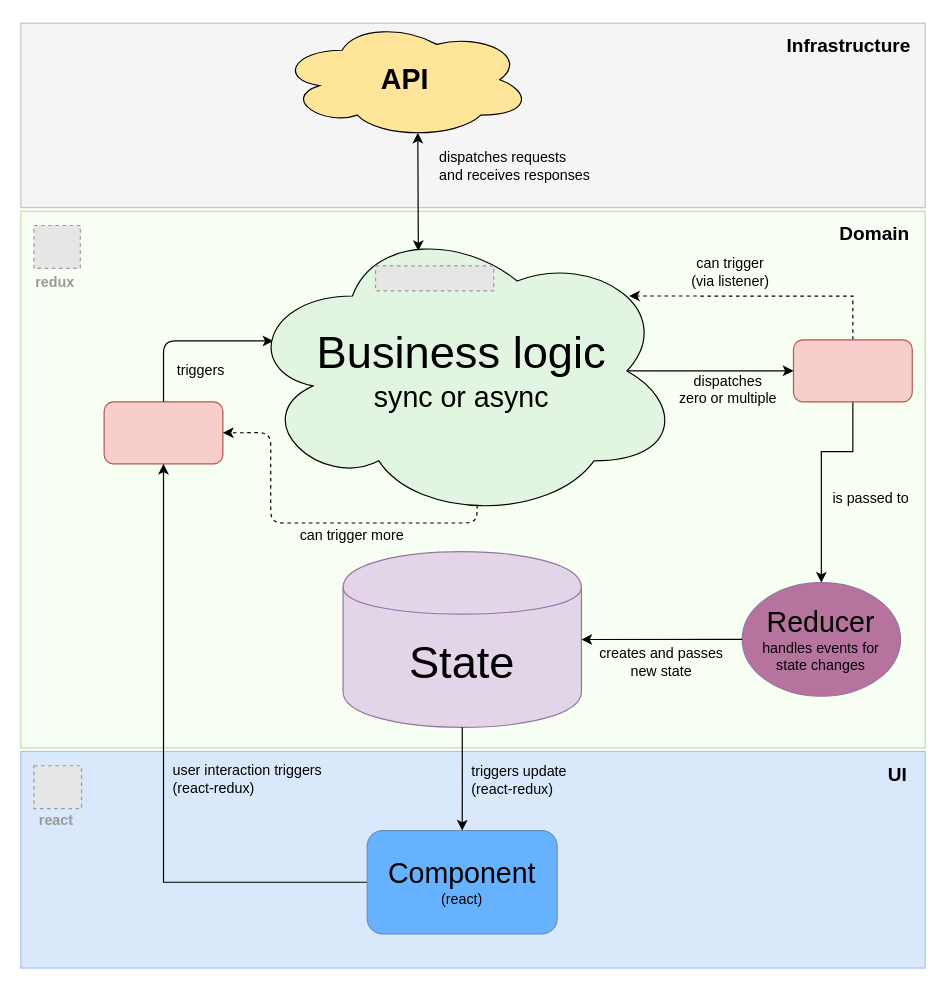
This 946x989 diagram has some shape labels left out. Grey dashed boxes stand in for pictures. The shapes that lost their labels are listed below. From the top down, each one's centre as x and y in pixels, then its label:
At (852,370): "Event (redux action)".
At (163,432): "Command (redux action)".
